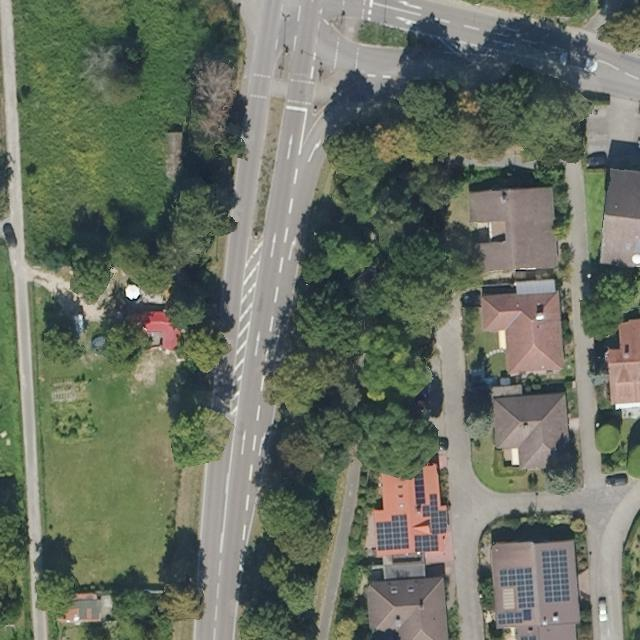PV: (496, 564, 538, 611), (540, 547, 573, 604), (373, 511, 412, 553), (419, 491, 449, 535), (413, 532, 440, 553), (495, 610, 524, 628)
